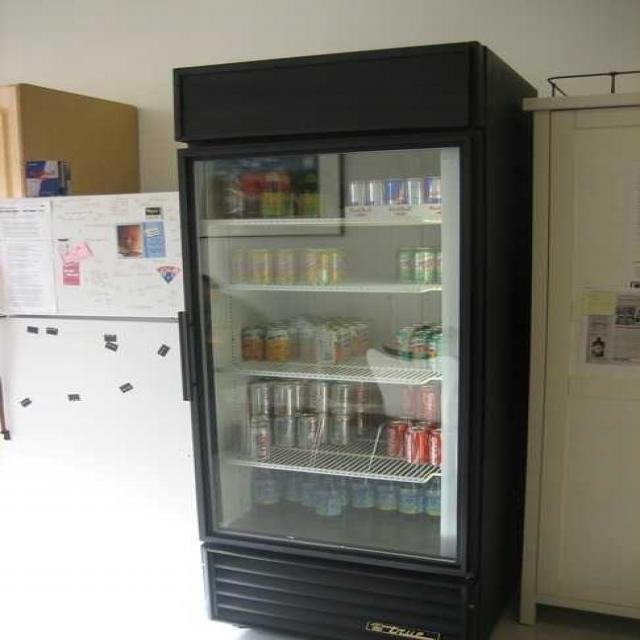refrigerator: (198, 125, 476, 551), (1, 172, 201, 640)
